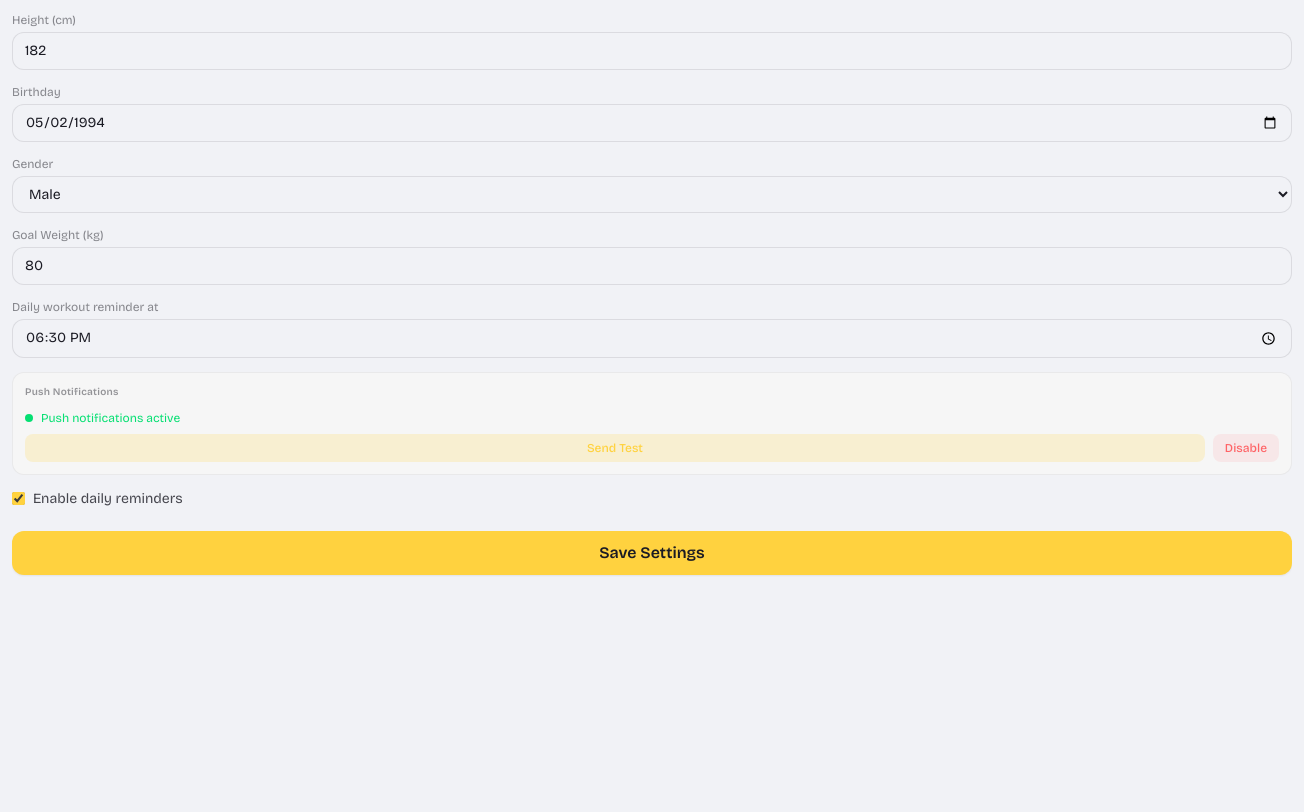
Test: HealthSettingsSection › sends a test notification and confirms it
The width and height of the screenshot is (1304, 812).
Click the button with aria-label "Send test notification": coordinates (615, 448) x1=25 y1=434 x2=1205 y2=462
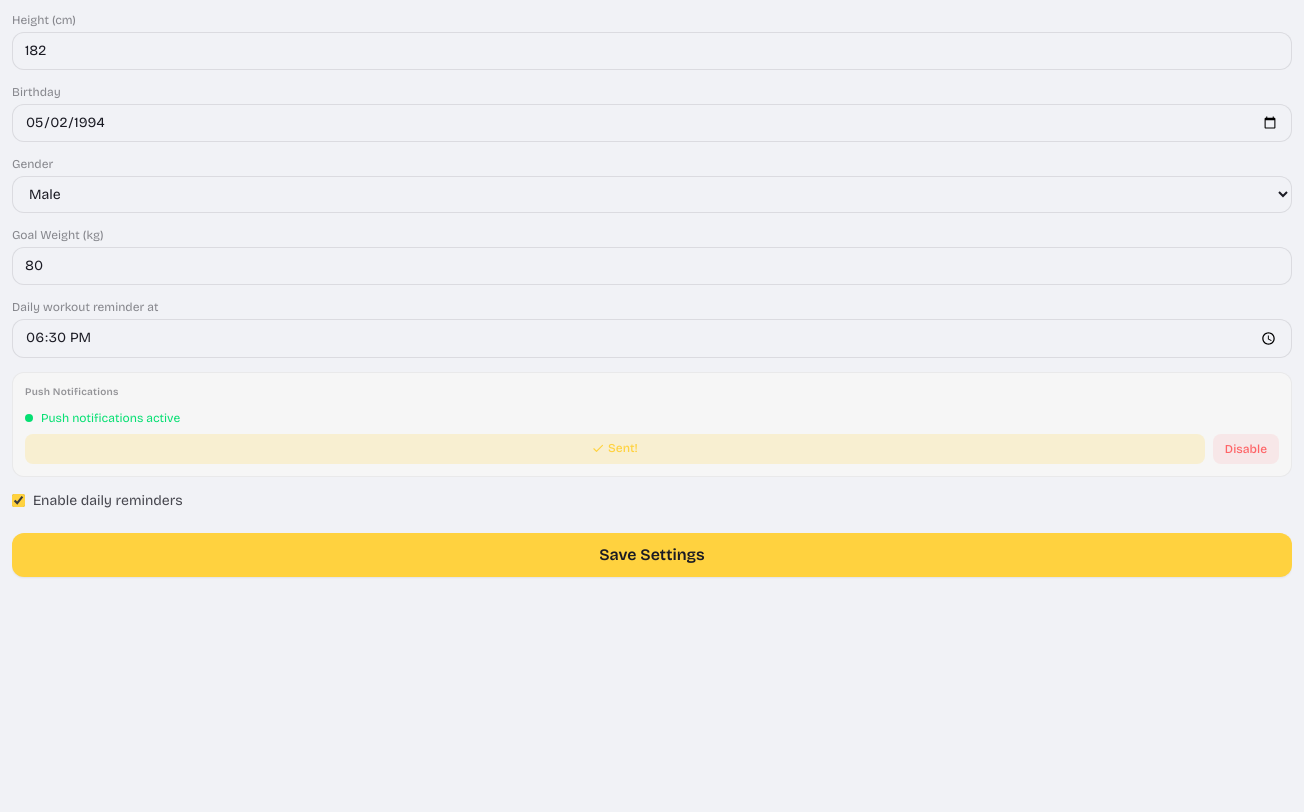
Check: the text "Sent!" is shown, box x1=592 y1=440 x2=638 y2=456
